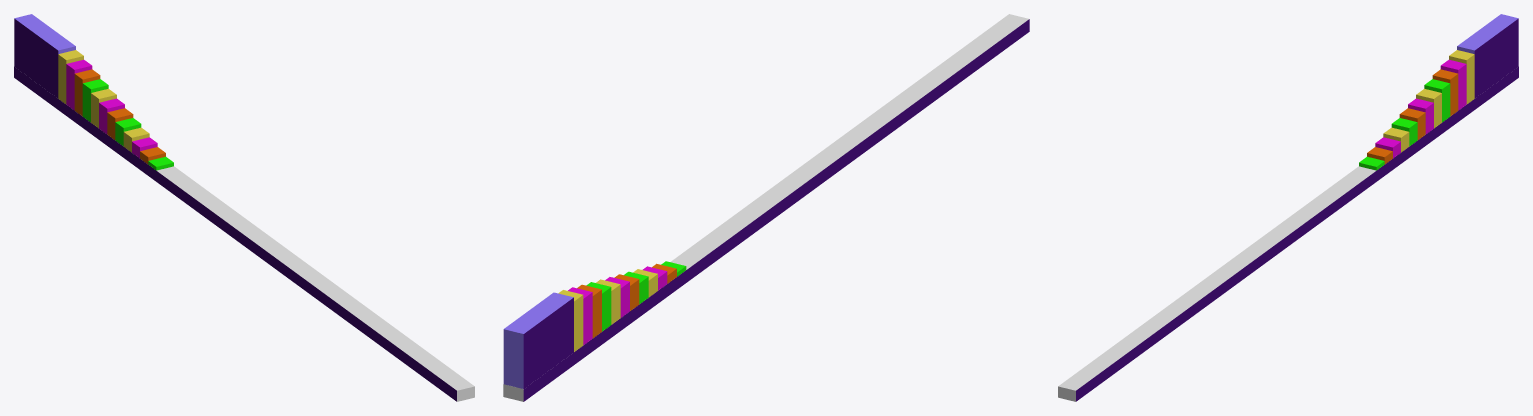
Rendered from BitisCubeSurfer.fbx.
The picture shows the model from 3 angles, left to right: view 1: azimuth 30°, elevation 25°; view 2: azimuth 150°, elevation 25°; view 3: azimuth 330°, elevation 25°; orthographic projection. The views are drawn at different scales.
Parts seen in each view (by area): view 1: Siyah-Beyaz, 20X, 12X, 11X, 10X, 9X, 8X, 7X, 6X; view 2: Siyah-Beyaz, 20X, 12X, 11X, 10X, 9X, 8X; view 3: Siyah-Beyaz, 20X, 12X, 11X, 10X, 9X, 8X, 7X, 6X.
Part boxes in pixels (x1,y1,x2,y2): Siyah-Beyaz: [14, 66, 474, 401]; 20X: [14, 14, 75, 98]; 12X: [58, 50, 83, 104]; 11X: [66, 59, 92, 110]; 10X: [74, 69, 100, 116]; 9X: [82, 79, 108, 122]; 8X: [91, 89, 116, 128]; 7X: [99, 98, 124, 134]; 6X: [107, 108, 133, 139]; Siyah-Beyaz: [503, 14, 1029, 401]; 20X: [503, 292, 573, 388]; 12X: [558, 290, 583, 351]; 11X: [568, 287, 592, 345]; 10X: [577, 284, 601, 338]; 9X: [586, 282, 611, 331]; 8X: [596, 279, 620, 324]; Siyah-Beyaz: [1058, 66, 1518, 401]; 20X: [1457, 14, 1518, 98]; 12X: [1449, 50, 1474, 104]; 11X: [1440, 59, 1466, 110]; 10X: [1432, 69, 1458, 116]; 9X: [1424, 79, 1450, 122]; 8X: [1416, 89, 1441, 128]; 7X: [1408, 98, 1433, 134]; 6X: [1399, 108, 1425, 139].
Bounding box in the file's own units: 1008 × 3202 × 43288.
